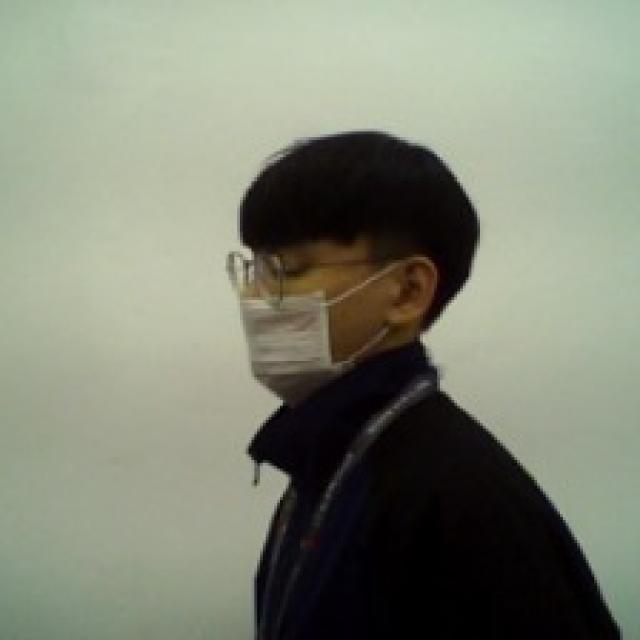mask: (218, 252, 462, 425)
no_gloves: (232, 122, 486, 306)
